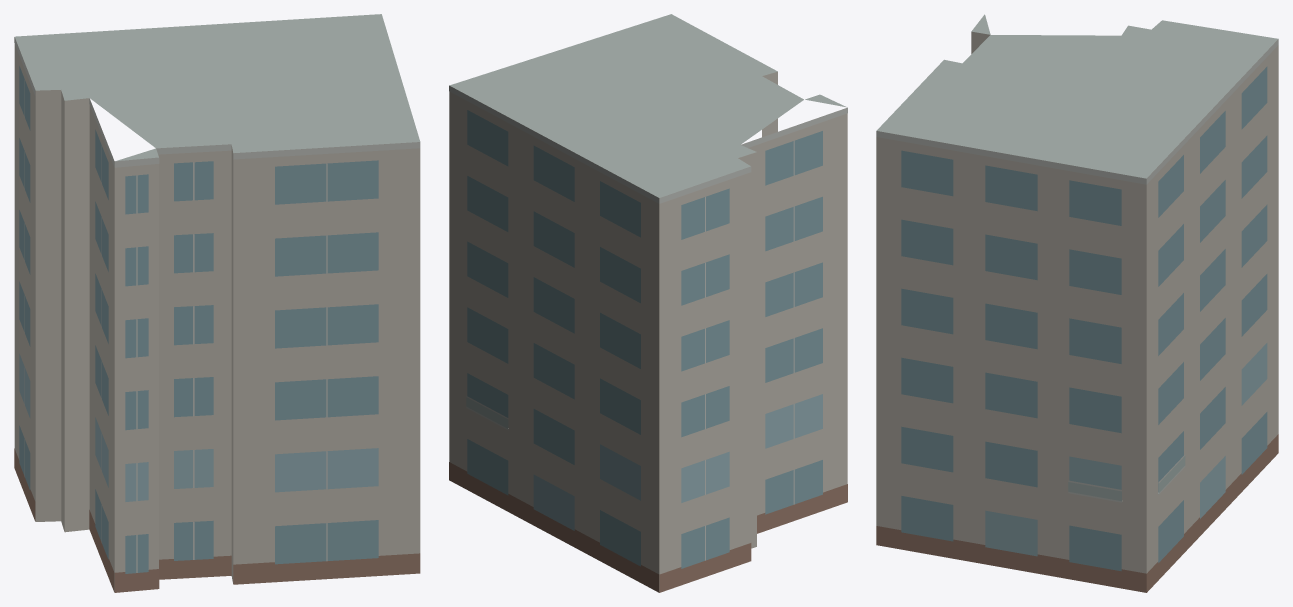
Rendered from survey-upis-33034401.glb.
3 renders of one model, left to right at view 1: azimuth 30°, elevation 25°; view 2: azimuth 150°, elevation 25°; view 3: azimuth 270°, elevation 25°, orthographic. The views are drawn at different scales.
Visible parts, largest first — view 1: survey-upis-33034401.tmp; view 2: survey-upis-33034401.tmp; view 3: survey-upis-33034401.tmp.
Boxes of the visible parts, x1,y1,x2,y2 form: survey-upis-33034401.tmp: [14, 14, 420, 592]; survey-upis-33034401.tmp: [449, 14, 847, 592]; survey-upis-33034401.tmp: [876, 14, 1278, 592].
Size of the model in its own units: 14.16 by 16.6 by 14.62.
